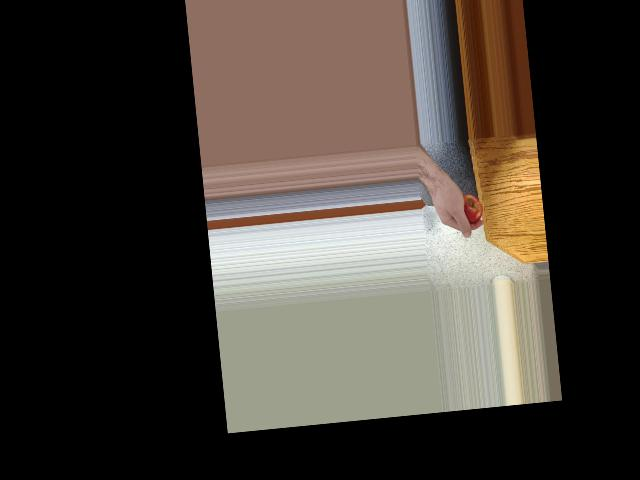apple: (455, 197, 486, 227)
